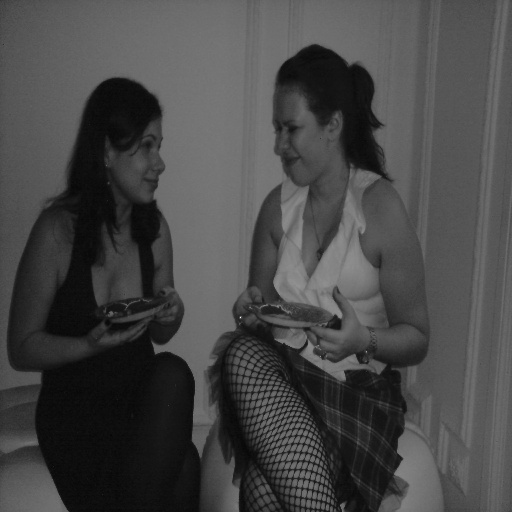hand: (323, 303, 375, 373), (85, 314, 154, 354), (231, 284, 270, 332), (153, 285, 186, 326)
